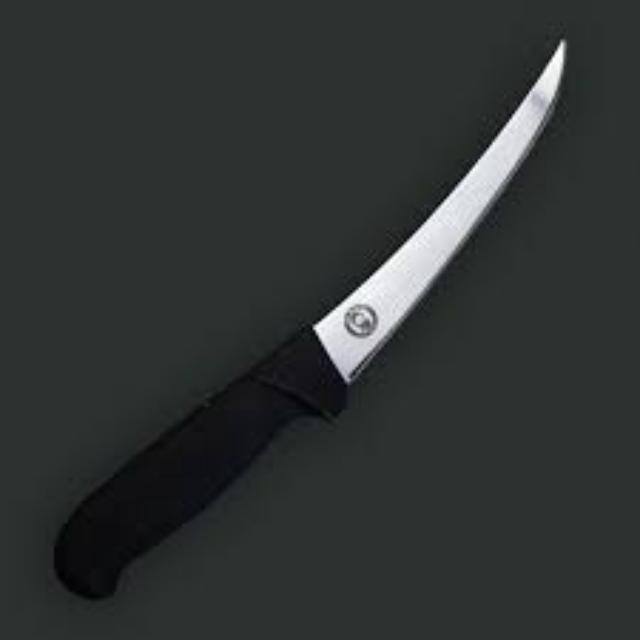Knife: (52, 34, 566, 600)
